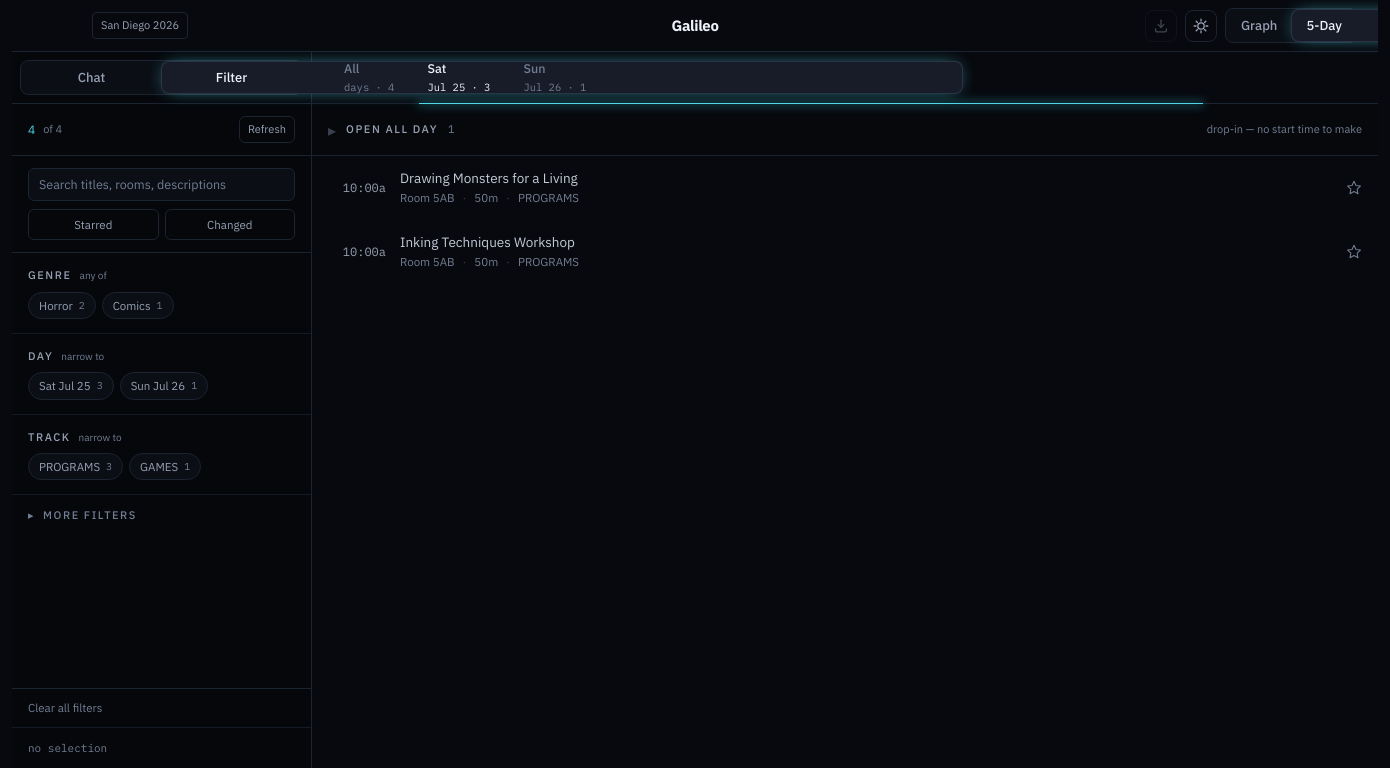
ghost stars › clears a ghost by UID, with no live event to hand
Check: the text "Drawing Monsters for a Living" is shown, box [400, 170, 578, 187]
What coordinates should you click on to do the following:
click the button named "Star Drawing Monsters"
I would click on:
 (1354, 188)
Its box is [1342, 176, 1366, 200].
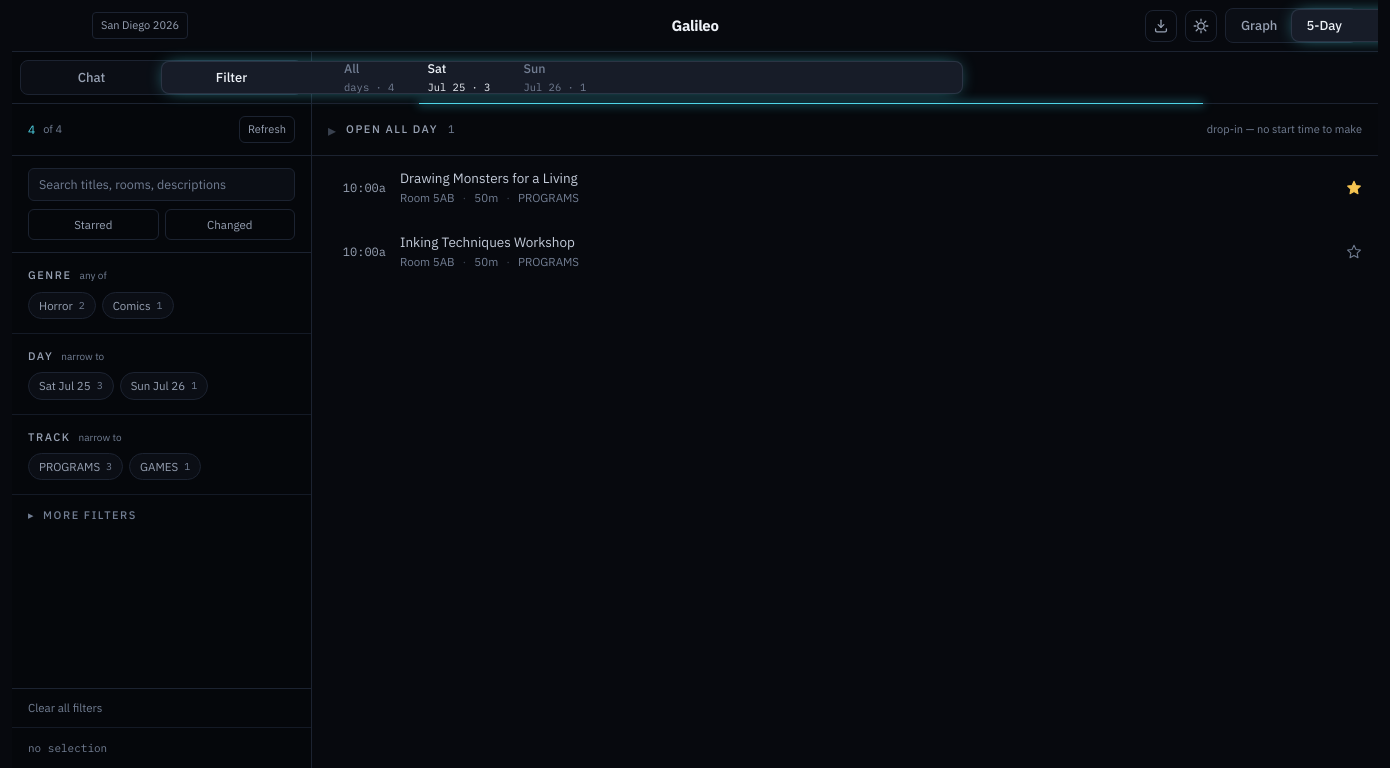
What coordinates should you click on to do the following:
click the button "Refresh"
I would click on:
 (267, 130)
Its box is [239, 116, 295, 143].
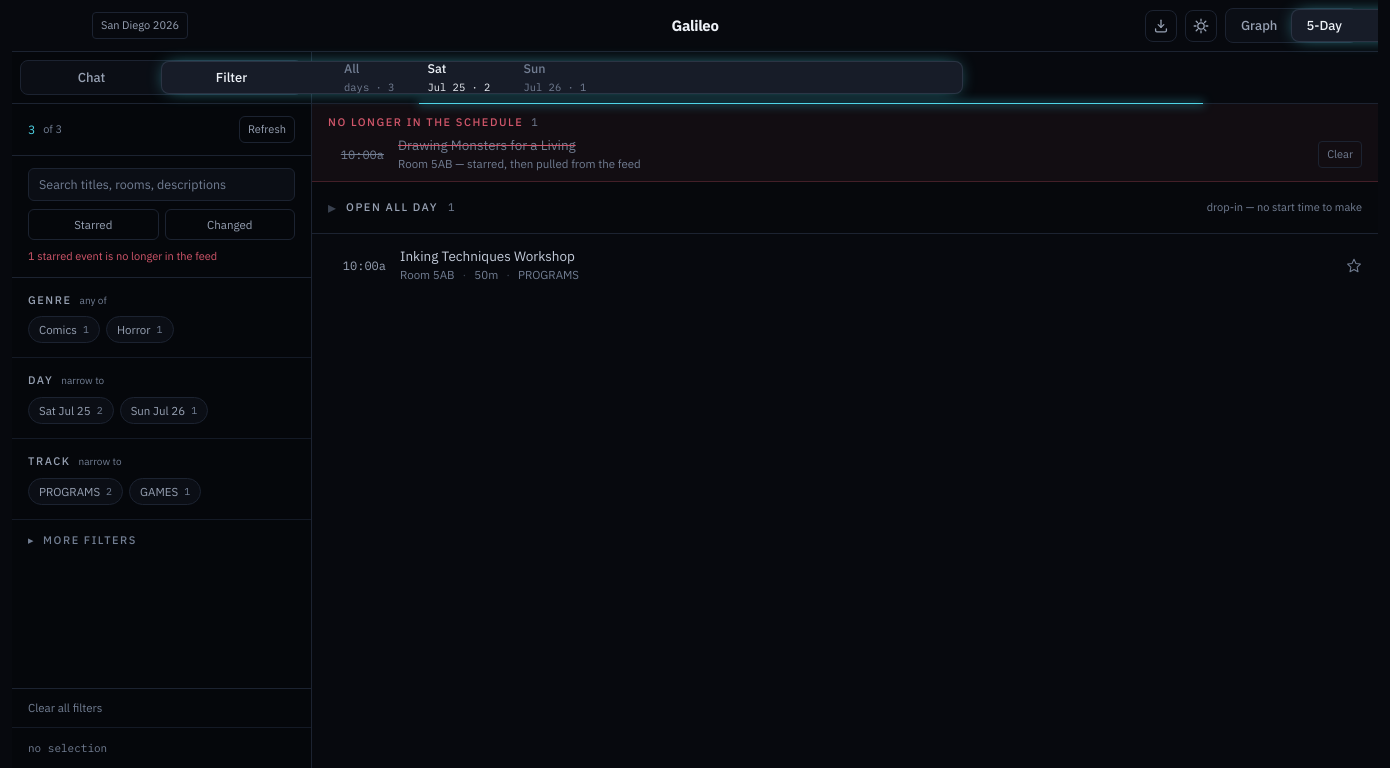
Check: the text "No longer in the schedule" is shown, box [328, 114, 523, 130]
What coordinates should you click on to do the following:
click the button "Clear"
I would click on:
 (1340, 155)
Its box is [1318, 141, 1362, 168].
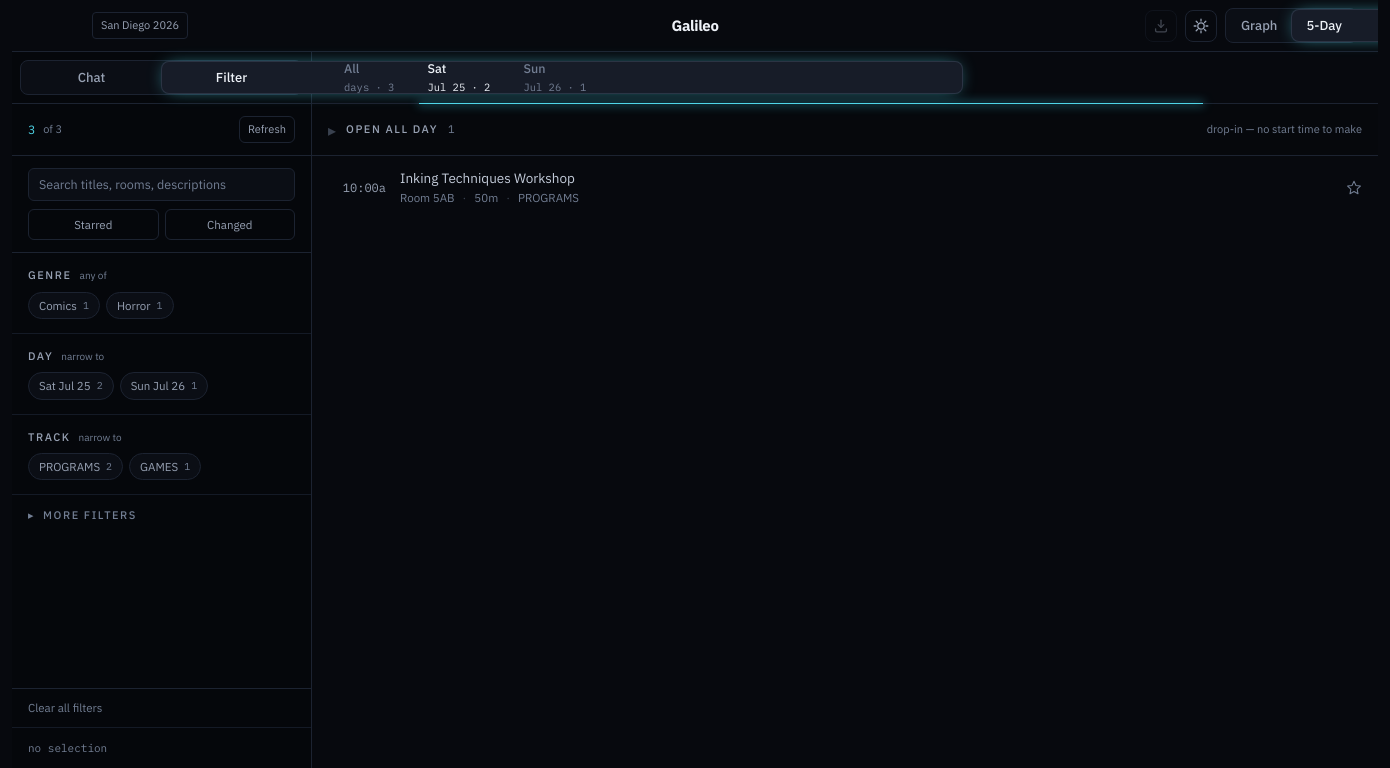
Check: the text "No longer in the schedule" is gone
